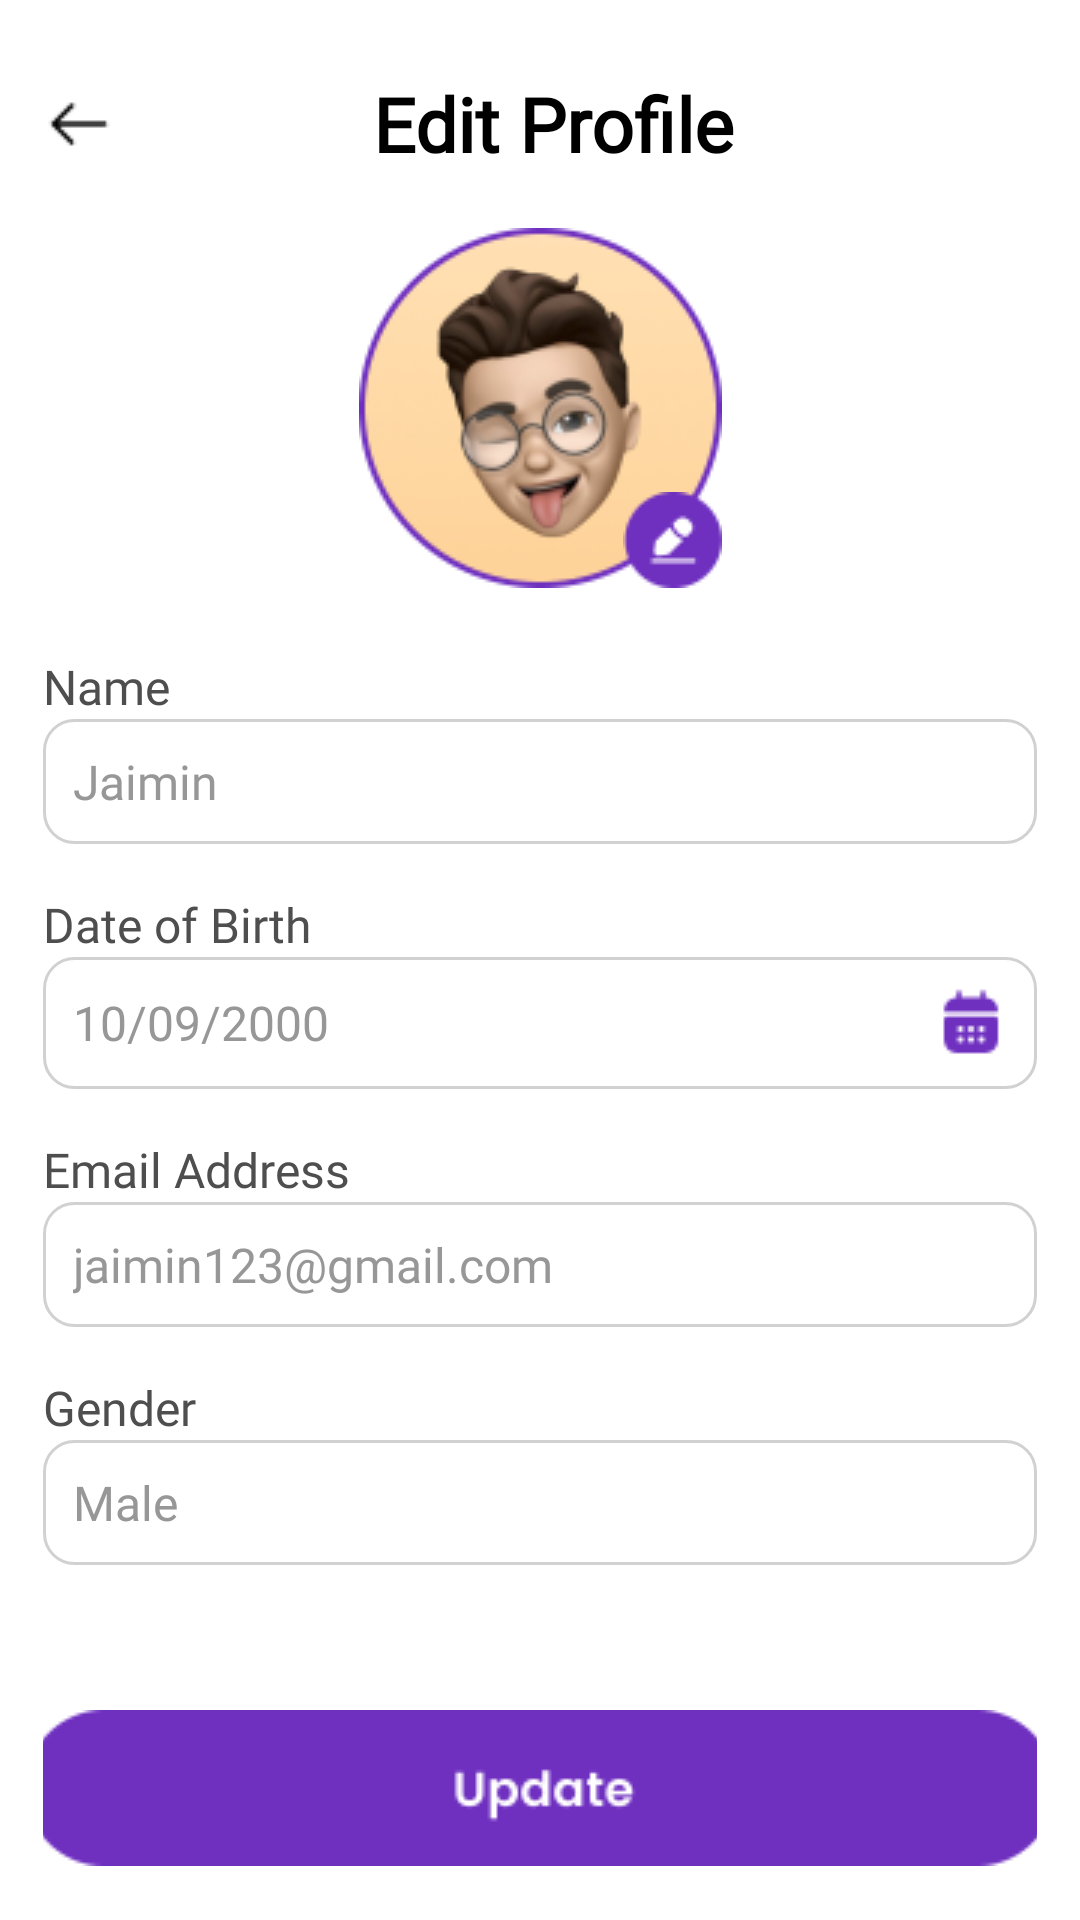

Where to tap for icons on this 1080 x 1920 app screen, as point (x, y):
back arrow: point (79, 124)
calender: point (971, 1021)
